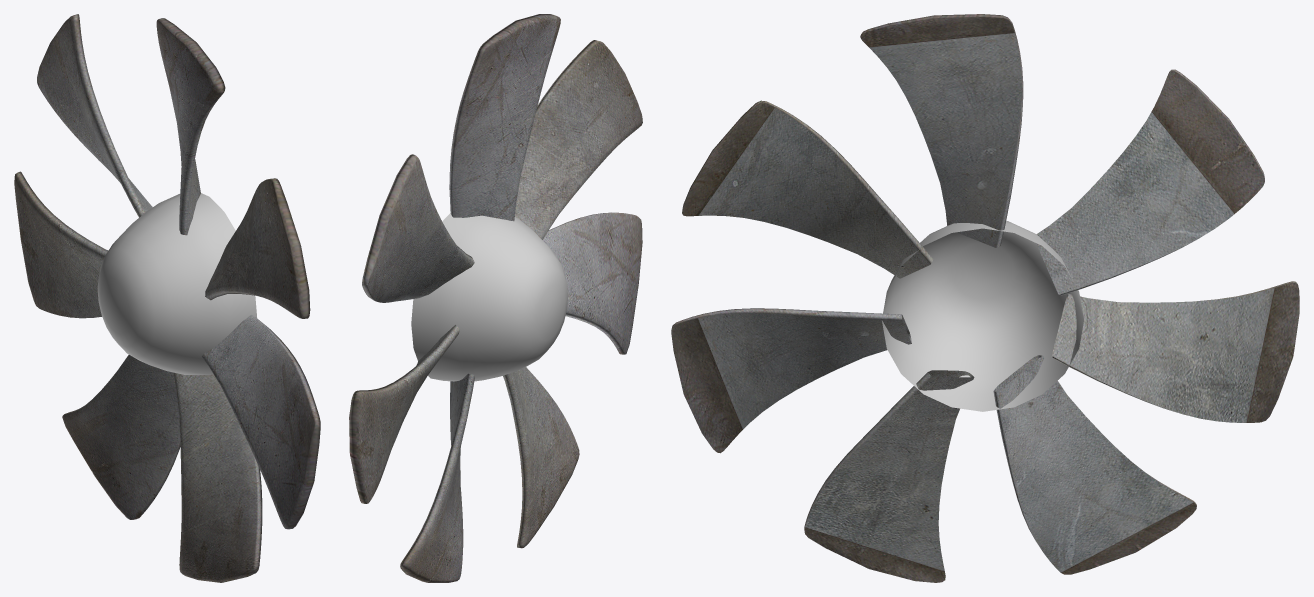
Rendered from prop_fanLarge.fbx.
3 views of the same model, side by side, from view 1: azimuth 30°, elevation 25°; view 2: azimuth 150°, elevation 25°; view 3: azimuth 270°, elevation 25° (orthographic). The views are drawn at different scales.
Visible parts, largest first — view 1: prop_fanLarge_propeller_001; view 2: prop_fanLarge_propeller_001; view 3: prop_fanLarge_propeller_001.
Part boxes in pixels (bbox=[...]): prop_fanLarge_propeller_001: bbox=[14, 14, 320, 582]; prop_fanLarge_propeller_001: bbox=[349, 14, 642, 582]; prop_fanLarge_propeller_001: bbox=[671, 14, 1299, 582].
Size of the model in its own units: 65.01 by 341 by 341.
